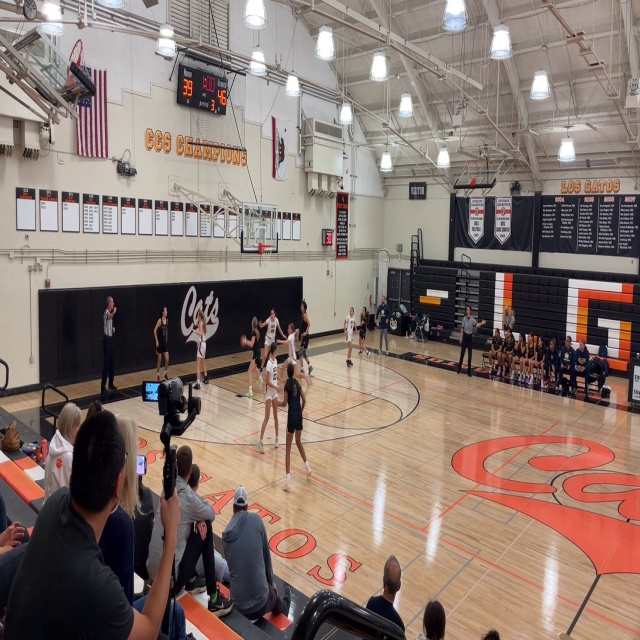Basketball: (240, 334, 248, 347)
